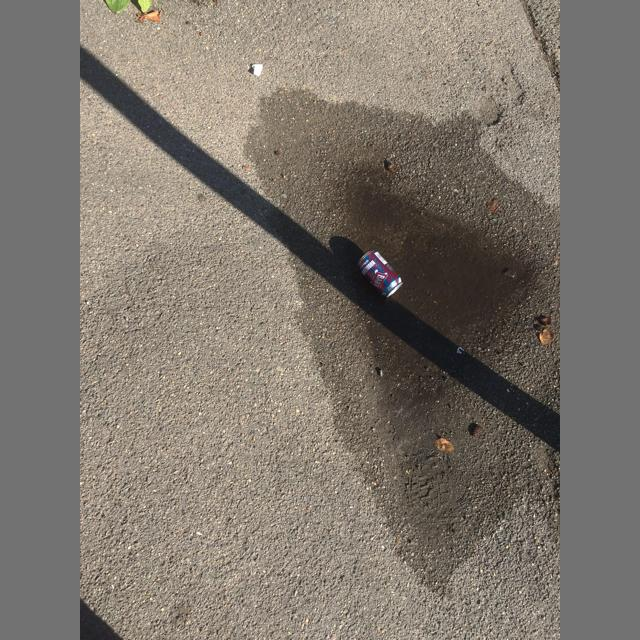litter: (356, 250, 403, 297), (252, 64, 263, 76)
